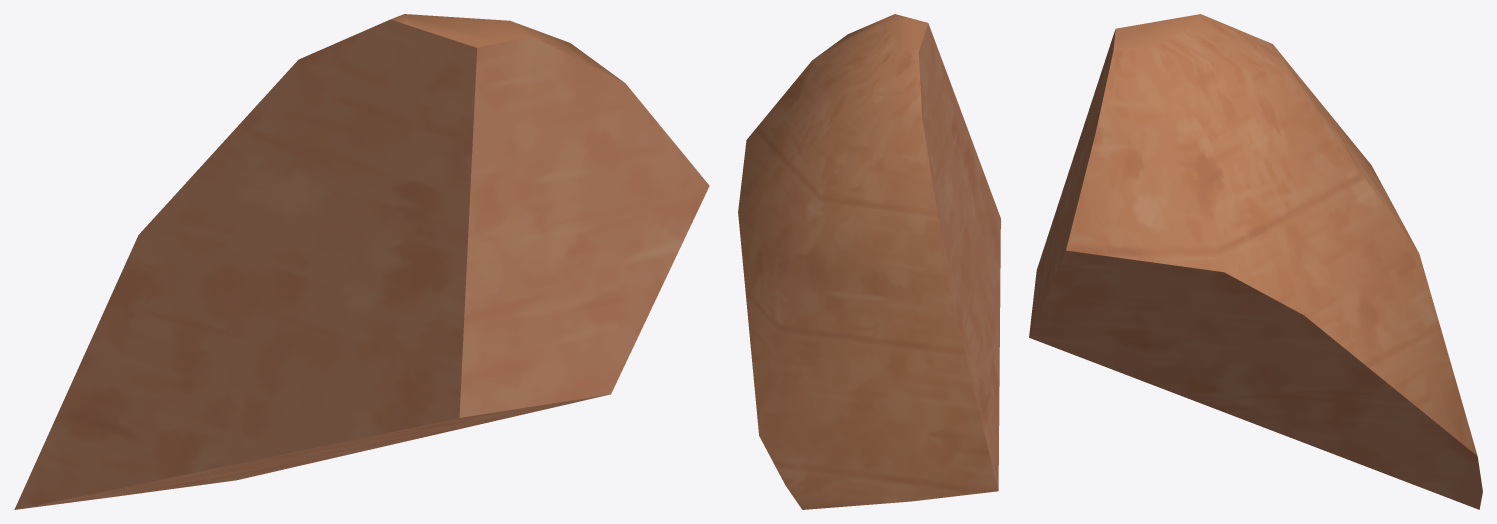
File: kiln_s07.fbx
The picture shows the model from 3 angles, left to right: view 1: azimuth 30°, elevation 25°; view 2: azimuth 150°, elevation 25°; view 3: azimuth 270°, elevation 25°; orthographic projection. The views are drawn at different scales.
Visible parts, largest first — view 1: kiln_s07; view 2: kiln_s07; view 3: kiln_s07.
Boxes of the visible parts, left/top/right/bottom form: kiln_s07: left=14, top=14, right=709, bottom=509; kiln_s07: left=738, top=14, right=1000, bottom=509; kiln_s07: left=1029, top=14, right=1482, bottom=509.
Size of the model in its own units: 3.51 by 3.93 by 3.29.
